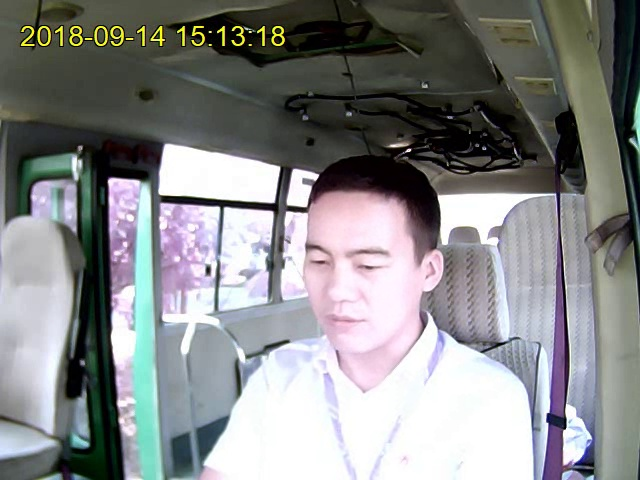closed_mouth: (320, 311, 368, 332)
